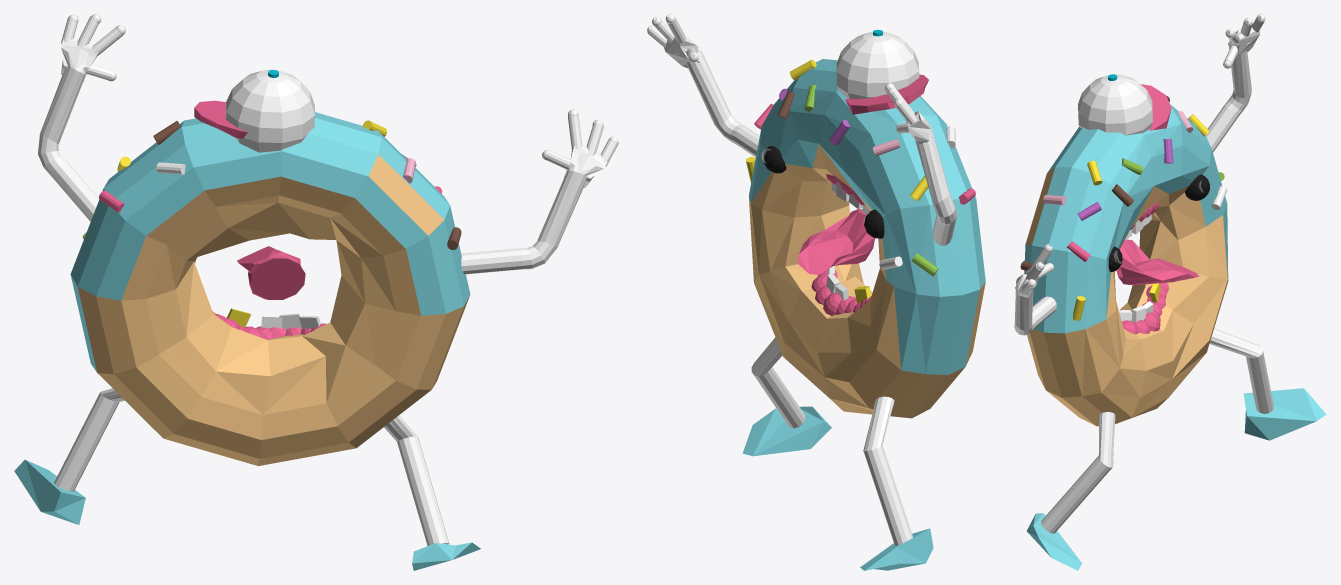
The model's file is Donut.glb.
3 views of the same model, side by side, from view 1: azimuth 30°, elevation 25°; view 2: azimuth 150°, elevation 25°; view 3: azimuth 270°, elevation 25° (orthographic). The views are drawn at different scales.
Parts seen in each view (by area): view 1: group944523831, group153439258, group946884255, group2044985799, group1980787605, group659911147, group596681535, group1390111362, group2108147090, group700054455; view 2: group944523831, group946884255, group153439258, group596681535, group659911147, group2108147090, group2044985799, group1980787605, group1390111362, group700054455, group627234037, group917784 (+1 smaller); view 3: group944523831, group946884255, group153439258, group1390111362, group1980787605, group659911147, group596681535, group2044985799, group2108147090, group700054455, group1710666268.
Part boxes in pixels (x1=…): group944523831: x1=70, y1=112, x2=470, y2=465; group153439258: x1=38, y1=14, x2=125, y2=221; group946884255: x1=225, y1=69, x2=314, y2=152; group2044985799: x1=461, y1=152, x2=603, y2=274; group1980787605: x1=384, y1=415, x2=449, y2=545; group659911147: x1=237, y1=246, x2=305, y2=299; group596681535: x1=54, y1=388, x2=124, y2=491; group1390111362: x1=14, y1=459, x2=85, y2=524; group2108147090: x1=412, y1=542, x2=480, y2=570; group700054455: x1=194, y1=100, x2=247, y2=138; group944523831: x1=749, y1=59, x2=985, y2=418; group946884255: x1=836, y1=31, x2=919, y2=98; group153439258: x1=885, y1=83, x2=956, y2=245; group596681535: x1=863, y1=396, x2=912, y2=545; group659911147: x1=797, y1=209, x2=874, y2=274; group2108147090: x1=742, y1=406, x2=831, y2=456; group2044985799: x1=675, y1=46, x2=759, y2=157; group1980787605: x1=751, y1=337, x2=805, y2=428; group1390111362: x1=860, y1=528, x2=933, y2=570; group700054455: x1=845, y1=74, x2=928, y2=114; group627234037: x1=664, y1=35, x2=700, y2=68; group917784: x1=763, y1=146, x2=786, y2=173; group944523831: x1=1024, y1=104, x2=1228, y2=426; group946884255: x1=1078, y1=74, x2=1152, y2=135; group153439258: x1=1205, y1=14, x2=1265, y2=152; group1390111362: x1=1243, y1=388, x2=1326, y2=440; group1980787605: x1=1041, y1=412, x2=1115, y2=533; group659911147: x1=1116, y1=239, x2=1198, y2=285; group596681535: x1=1209, y1=328, x2=1273, y2=413; group2044985799: x1=1014, y1=271, x2=1056, y2=335; group2108147090: x1=1027, y1=513, x2=1081, y2=570; group700054455: x1=1141, y1=84, x2=1171, y2=130; group1710666268: x1=1185, y1=174, x2=1209, y2=200.
Size of the model in its own units: 0.9553 by 1.07 by 0.6791.
